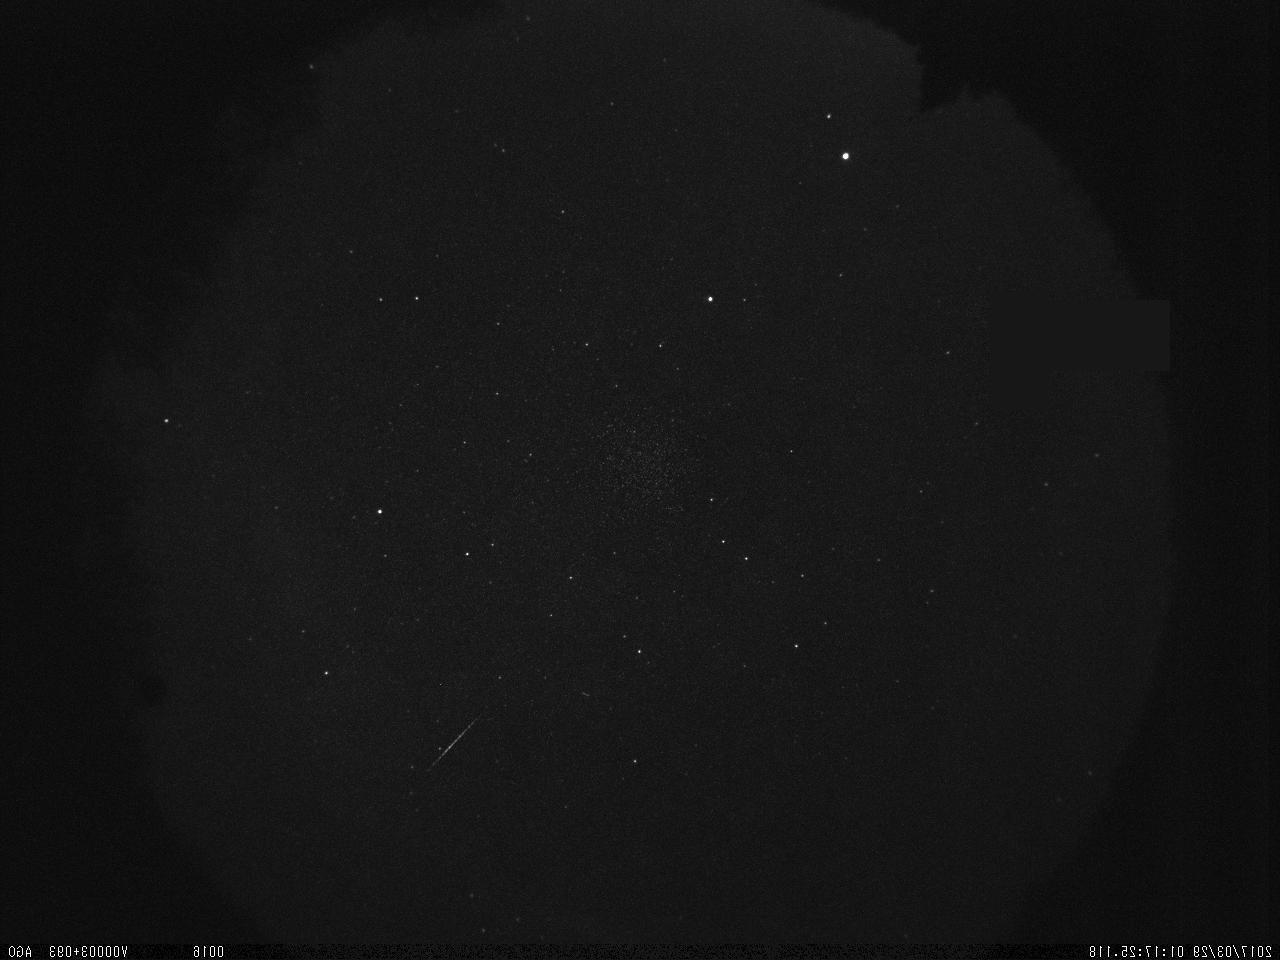meteor: (417, 700, 490, 781)
